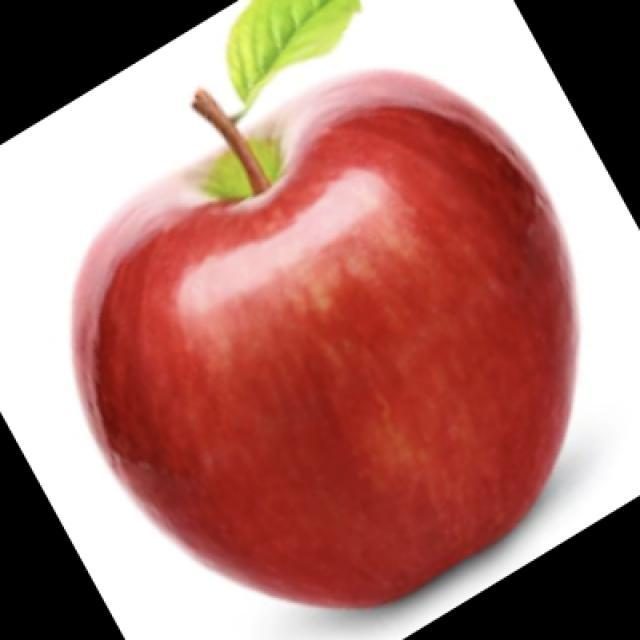Fresh Apple: (98, 87, 582, 583)
